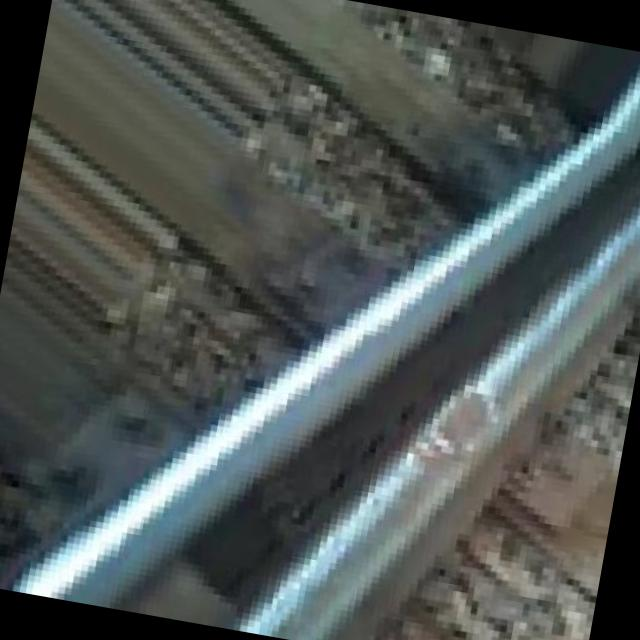defective: (382, 362, 514, 516)
